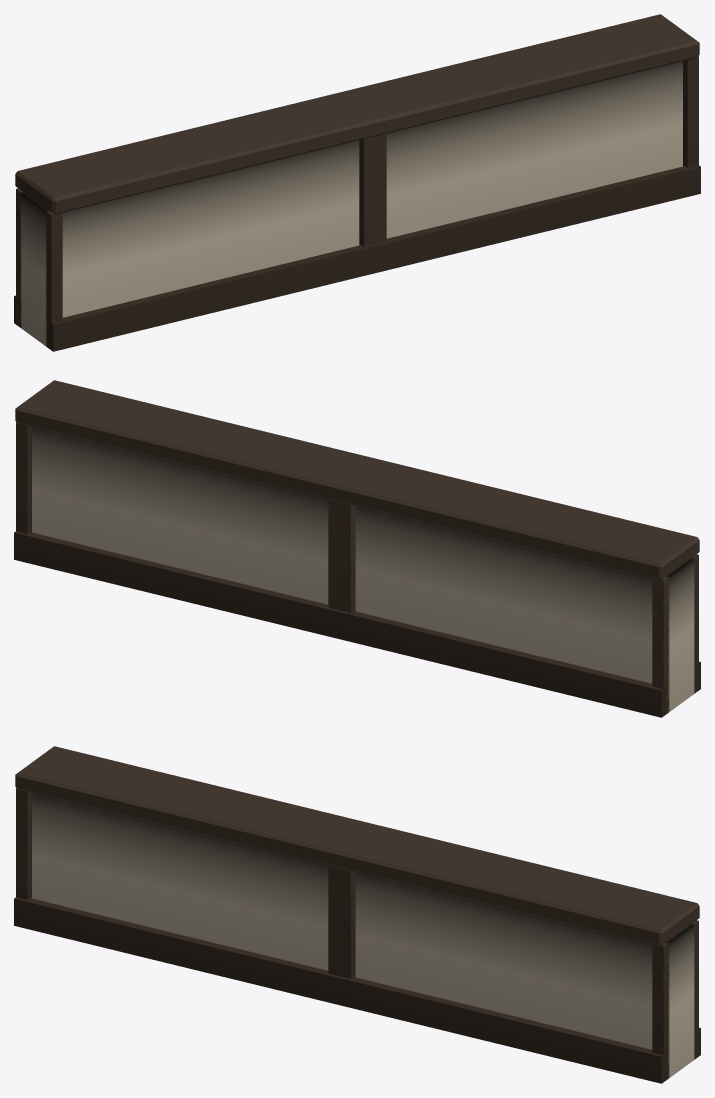
File: int_wall_plaster_low.glb
3 renders of one model, top to bottom at view 1: azimuth 30°, elevation 25°; view 2: azimuth 150°, elevation 25°; view 3: azimuth 330°, elevation 25°, orthographic.
Visible parts, largest first — view 1: int_wall_plaster_low; view 2: int_wall_plaster_low; view 3: int_wall_plaster_low.
Boxes of the visible parts, x1,y1,x2,y2 form: int_wall_plaster_low: (14, 14, 700, 351); int_wall_plaster_low: (14, 380, 700, 717); int_wall_plaster_low: (14, 746, 700, 1083).
Size of what is drawn, in the model's own units: 4 by 0.9 by 0.42.
